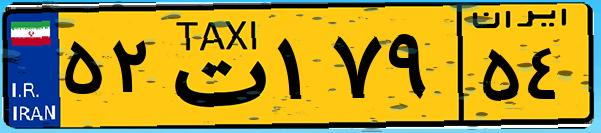1: (270, 28, 330, 110)
2: (110, 28, 158, 98)
4: (525, 38, 570, 115)
5: (57, 26, 110, 100), (475, 38, 525, 113)
7: (330, 28, 385, 110)
9: (385, 28, 445, 110)
ت: (158, 12, 270, 120)
